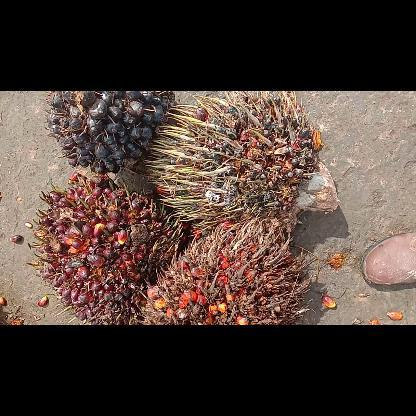TBS abnormal: (147, 90, 339, 228)
TBS mentah: (144, 222, 314, 324), (48, 91, 176, 175)
Terlalu masak: (28, 176, 184, 324)
